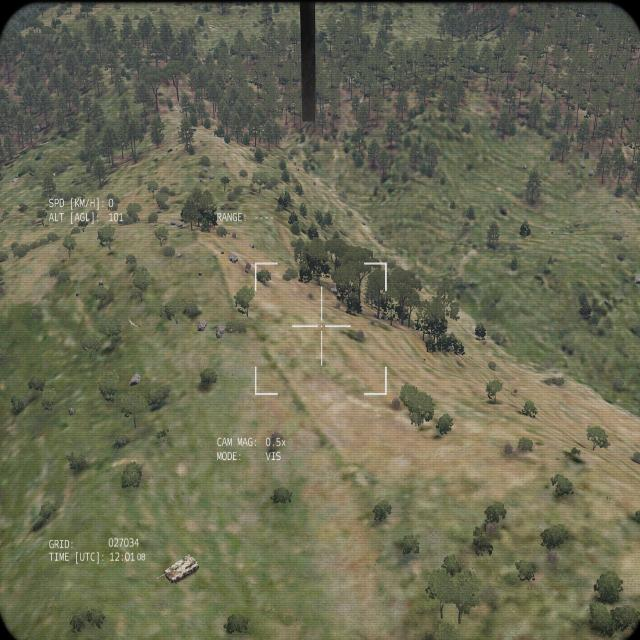tank: (154, 553, 200, 586)
